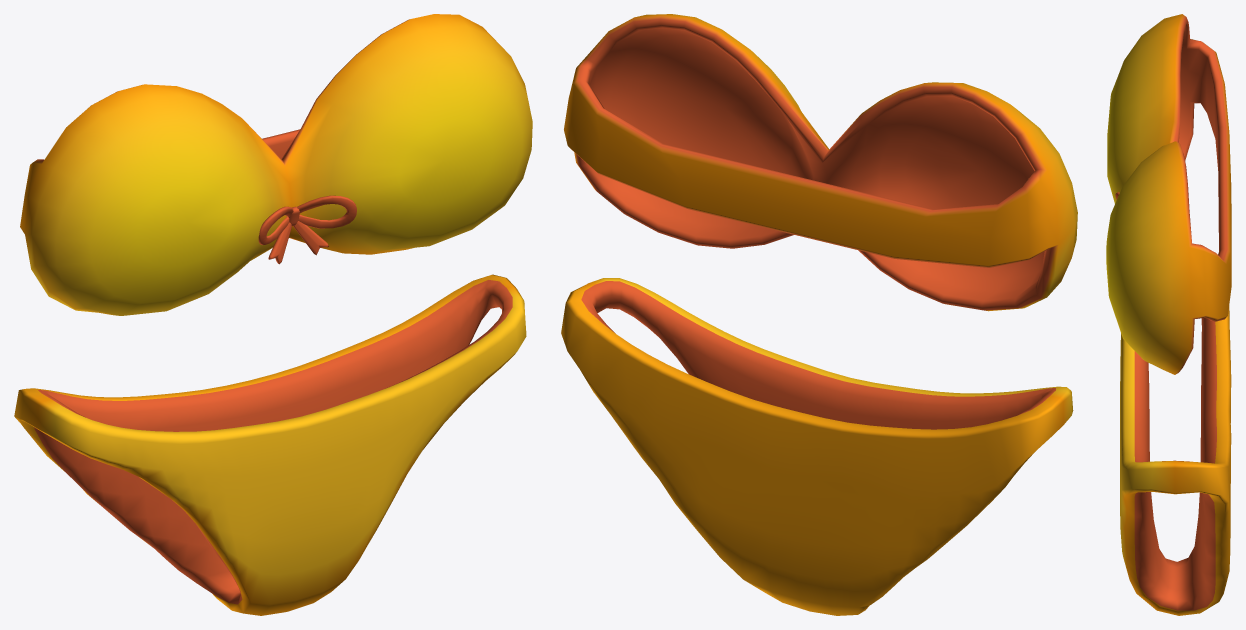
Rendered from swimsuit.fbx.
3 renders of one model, left to right at view 1: azimuth 30°, elevation 25°; view 2: azimuth 150°, elevation 25°; view 3: azimuth 270°, elevation 25°, orthographic. The views are drawn at different scales.
Visible parts, largest first — view 1: swimsuit; view 2: swimsuit; view 3: swimsuit.
Part boxes in pixels (<box>): swimsuit: <box>14,14,532,615</box>; swimsuit: <box>561,14,1077,615</box>; swimsuit: <box>1106,14,1231,615</box>.
Size of the model in its own units: 1.3 by 1.39 by 0.3053.
